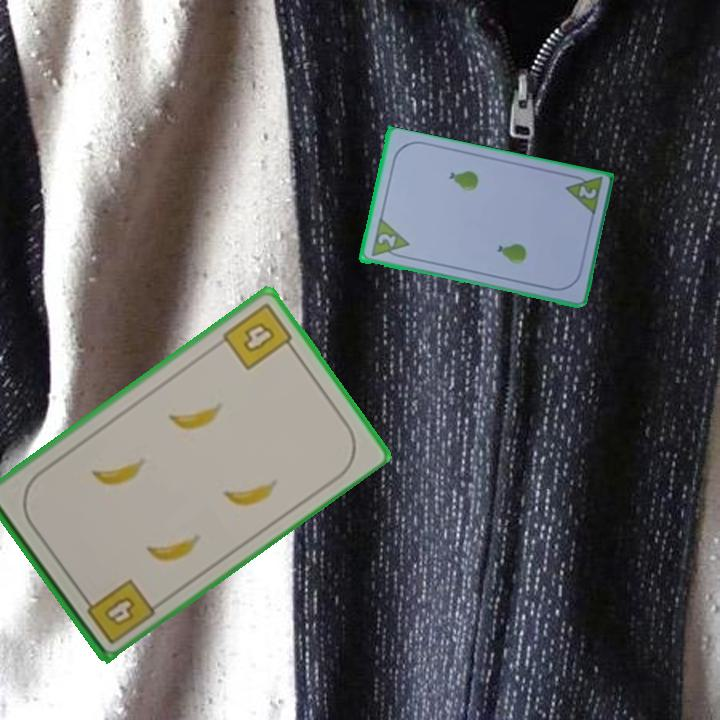2p: (561, 170, 605, 219), (367, 216, 411, 262)
4b: (219, 299, 299, 373), (78, 574, 158, 647)
